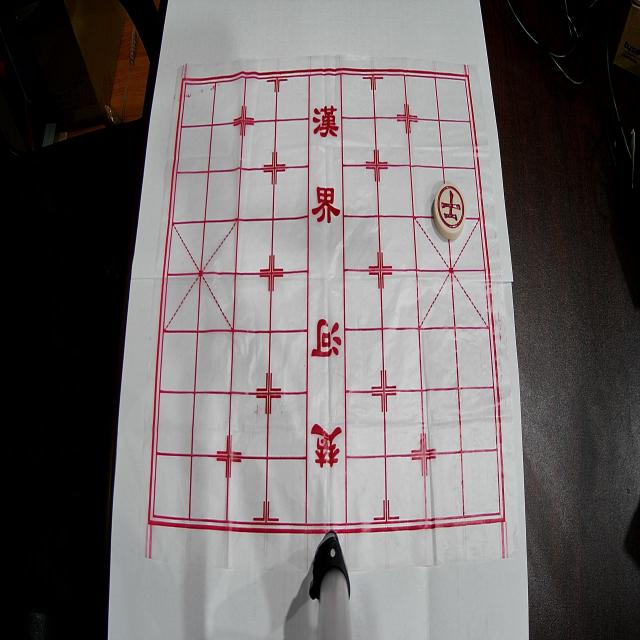red-guard: (433, 182, 466, 240)
